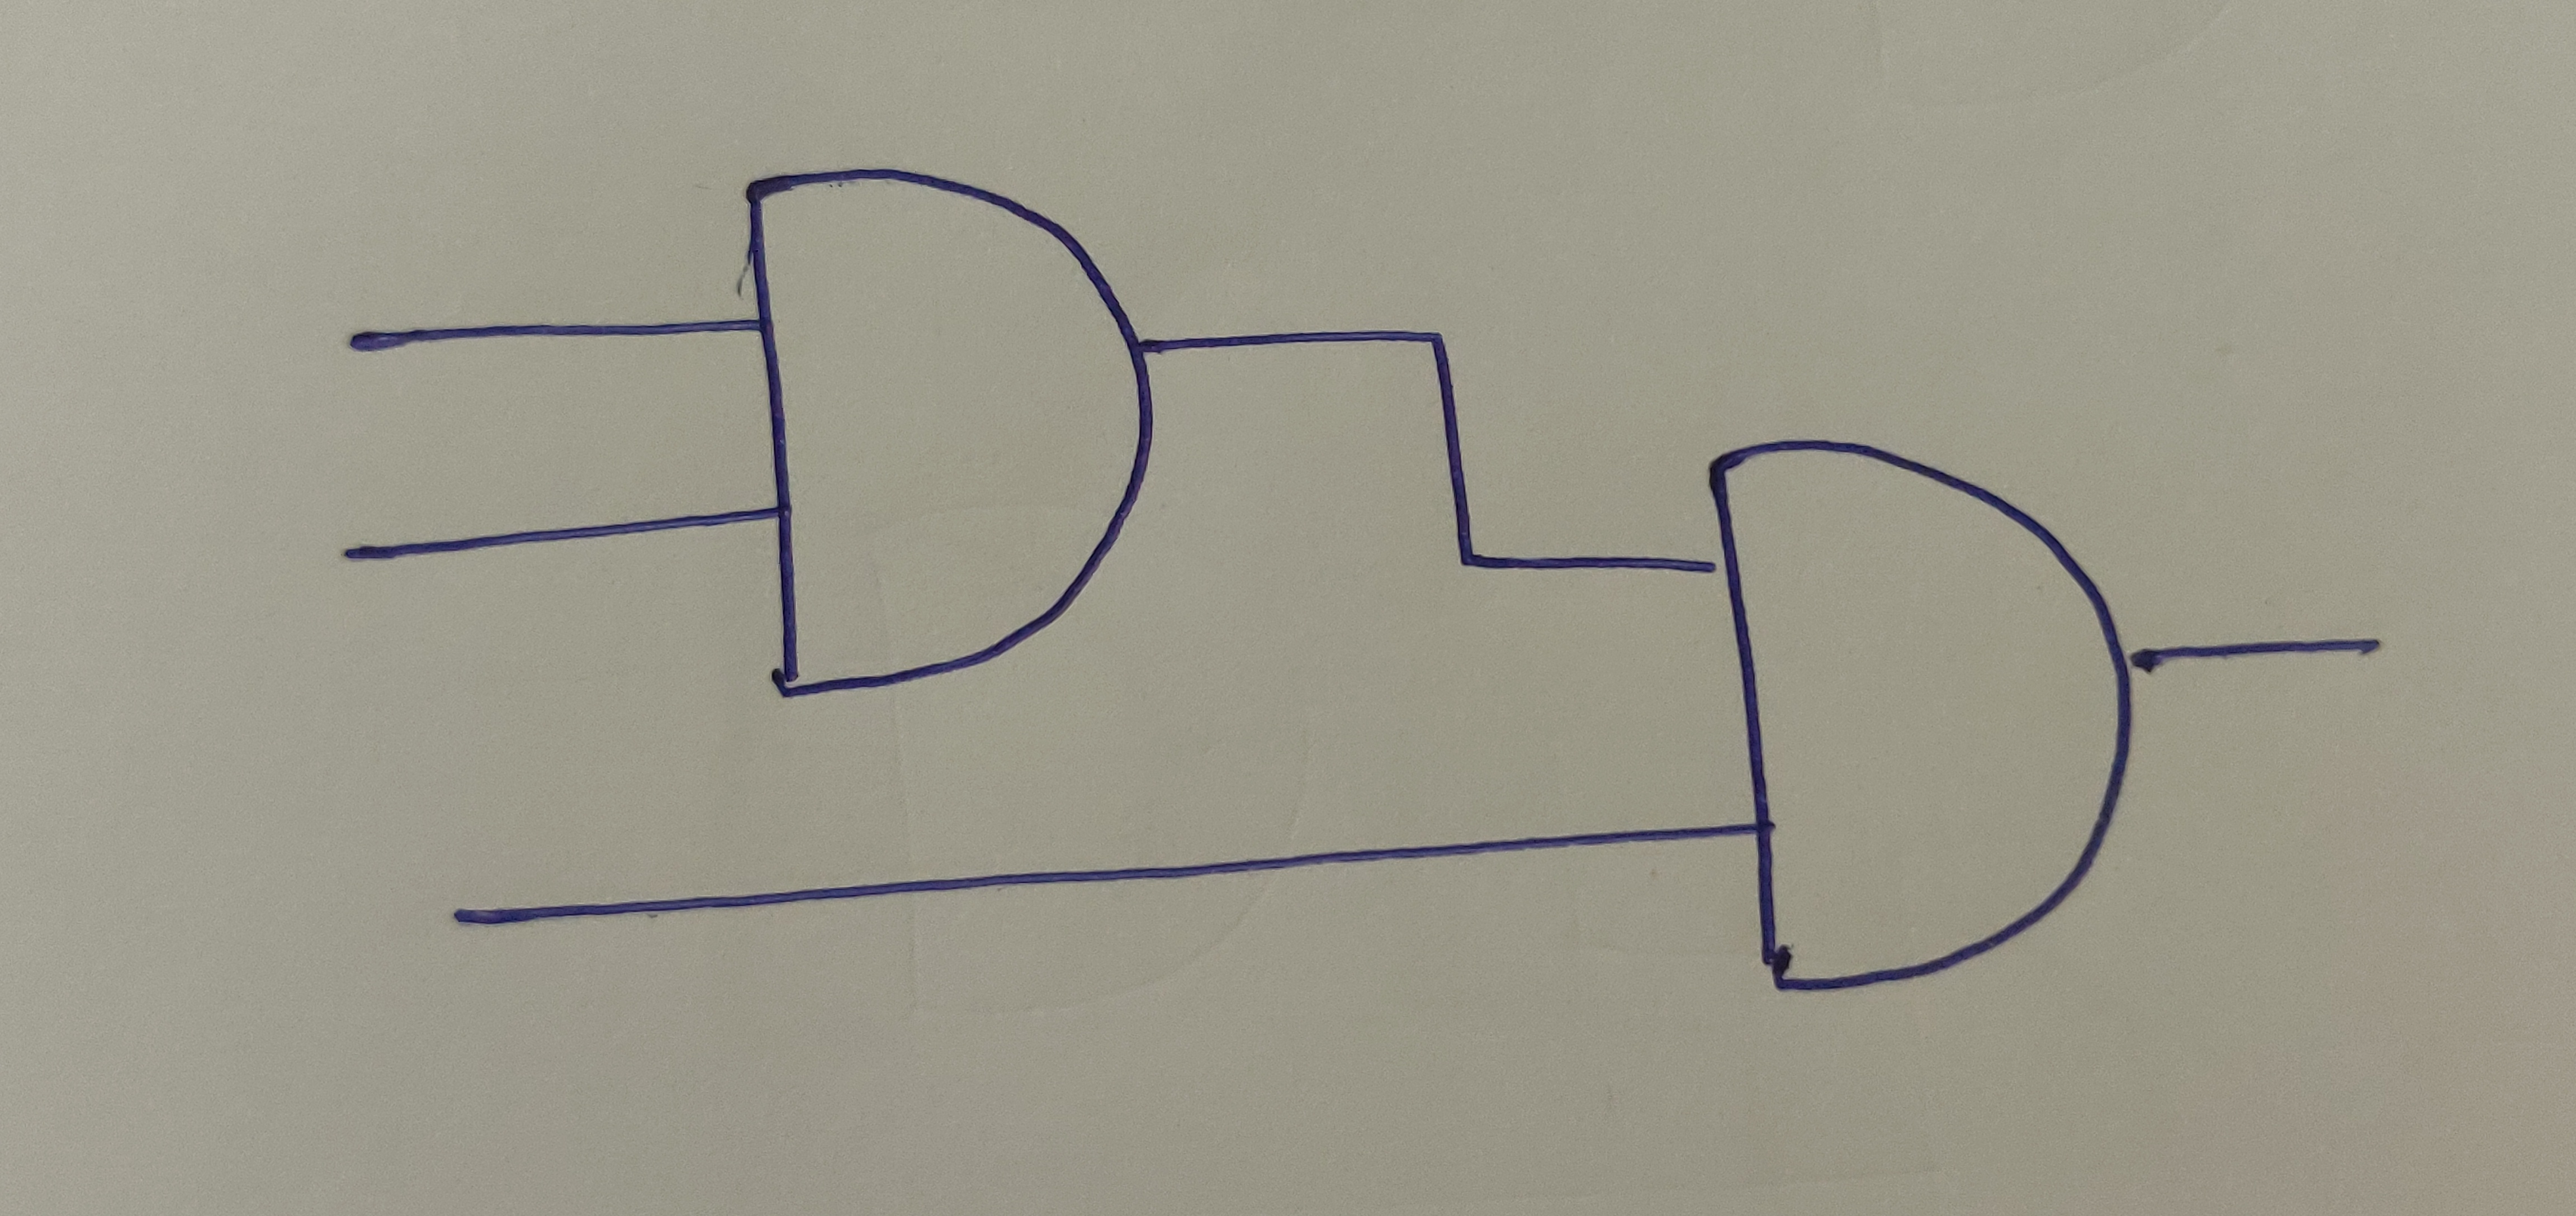and: (1705, 439, 2137, 997), (743, 171, 1161, 693)
